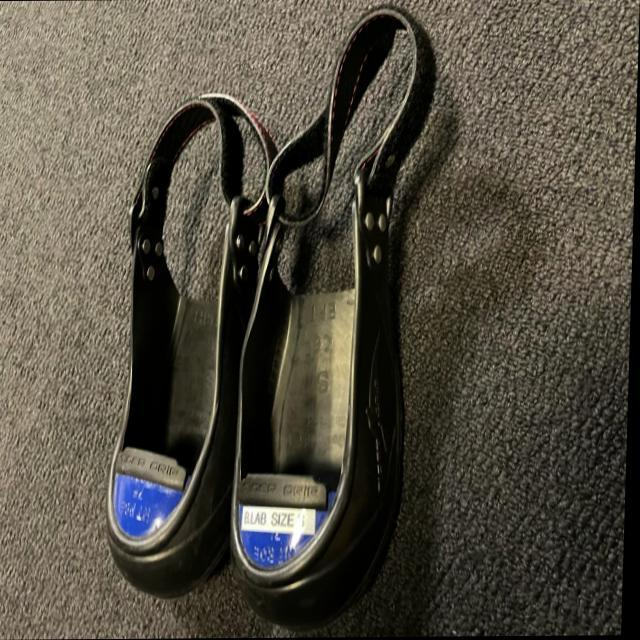shoes: (226, 76, 431, 610), (90, 80, 268, 593)
